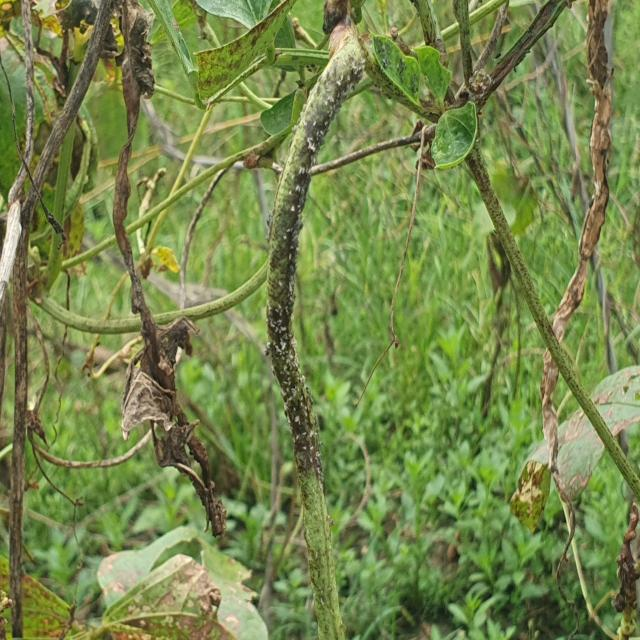sitaw-aphid-moderate: (266, 23, 371, 640)
